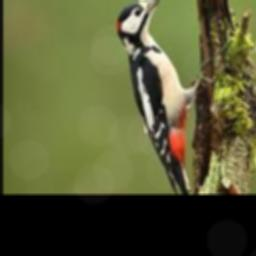Woodpecker: (117, 0, 215, 194)
